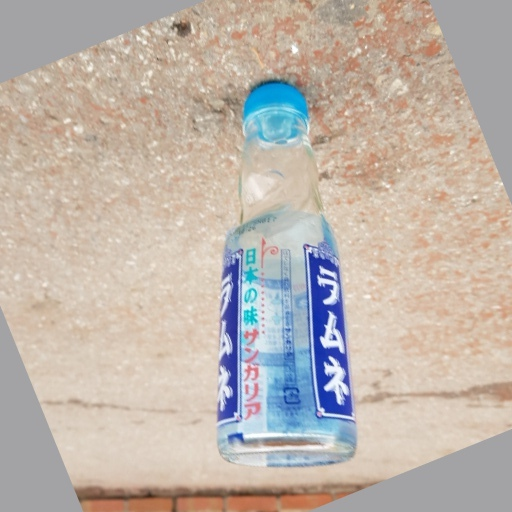Glass_4: (212, 75, 358, 469)
